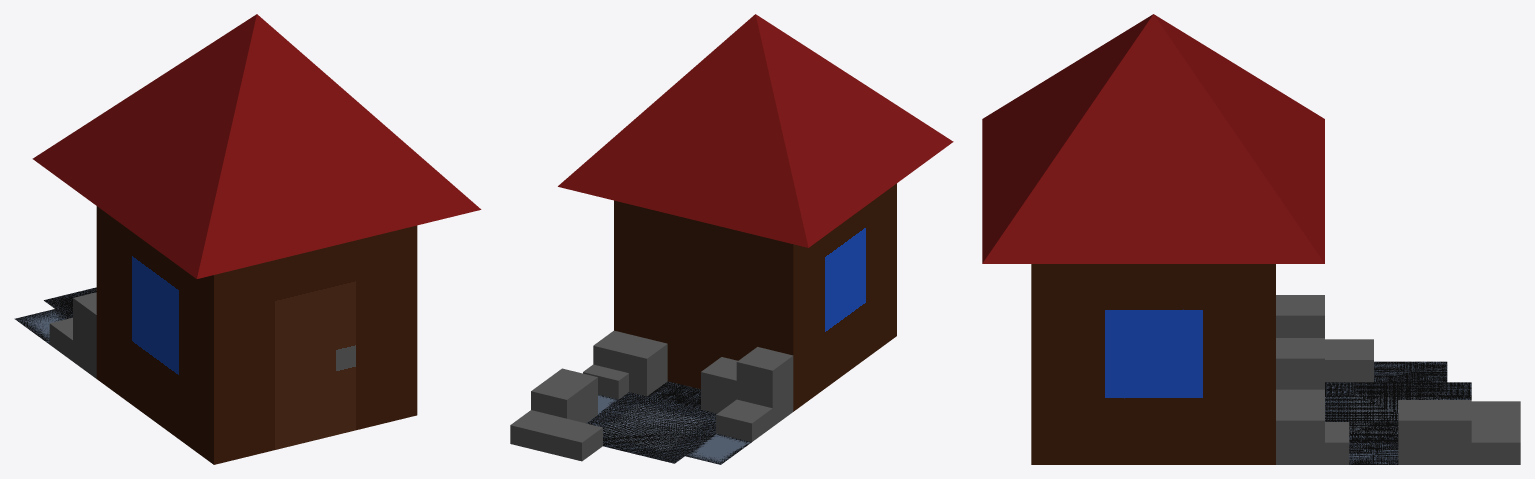
File: Mine.fbx
3 renders of one model, left to right at view 1: azimuth 30°, elevation 25°; view 2: azimuth 150°, elevation 25°; view 3: azimuth 270°, elevation 25°, orthographic. The views are drawn at different scales.
Parts seen in each view (by area): view 1: pyramid, cube_1, cube_2, cube_3, cube_4, cube_11, cube_6, cube_5, cube_10; view 2: pyramid, cube_3, cube_2, cube_10, cube_7, cube_14, cube_4, cube_1, cube_13, cube_6, cube_5, cube_11 (+2 smaller); view 3: pyramid, cube, cube_1, cube_3, cube_10, cube_13, cube_7, cube_14, cube_4, cube_5, cube_6, cube_11 (+2 smaller).
Part boxes in pixels (x1,y1,x2,y2): pyramid: (32, 14, 481, 278); cube_1: (190, 225, 417, 464); cube_2: (120, 223, 190, 447); cube_3: (96, 206, 119, 395); cube_4: (73, 319, 96, 378); cube_11: (14, 309, 67, 344); cube_6: (73, 292, 96, 335); cube_5: (49, 317, 72, 361); cube_10: (44, 287, 96, 318); pyramid: (558, 14, 953, 247); cube_3: (614, 200, 813, 411); cube_2: (814, 199, 876, 396); cube_10: (586, 392, 716, 463); cube_7: (593, 330, 667, 396); cube_14: (510, 410, 602, 461); cube_4: (701, 357, 793, 426); cube_1: (876, 183, 896, 350); cube_13: (531, 368, 597, 423); cube_6: (736, 347, 793, 389); cube_5: (716, 399, 772, 441); cube_11: (685, 433, 751, 464); pyramid: (982, 14, 1324, 263); cube: (1080, 264, 1226, 464); cube_1: (1031, 264, 1080, 464); cube_3: (1227, 264, 1275, 464); cube_10: (1325, 382, 1471, 444); cube_13: (1398, 400, 1471, 464); cube_7: (1276, 389, 1324, 464); cube_14: (1471, 401, 1520, 464); cube_4: (1276, 338, 1324, 389); cube_5: (1325, 339, 1373, 382); cube_6: (1276, 295, 1324, 337); cube_11: (1374, 361, 1447, 382).
Size of the model in its own units: 87.5 by 112 by 138.
1 material, 1 textured.
